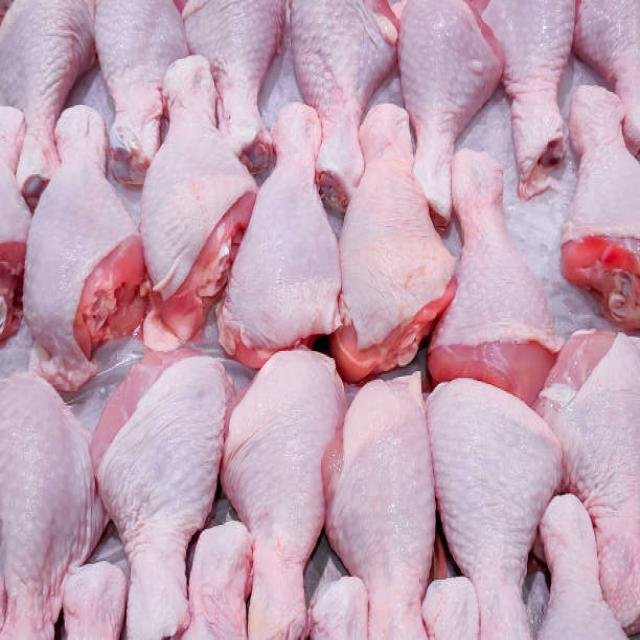Chicken: (95, 350, 218, 640), (18, 105, 139, 365), (221, 346, 326, 640), (440, 384, 548, 640), (0, 355, 94, 639), (338, 366, 431, 640), (142, 63, 242, 312), (234, 110, 335, 345), (444, 156, 546, 382), (341, 105, 420, 367), (398, 0, 491, 187), (288, 0, 381, 167), (212, 0, 279, 164)
